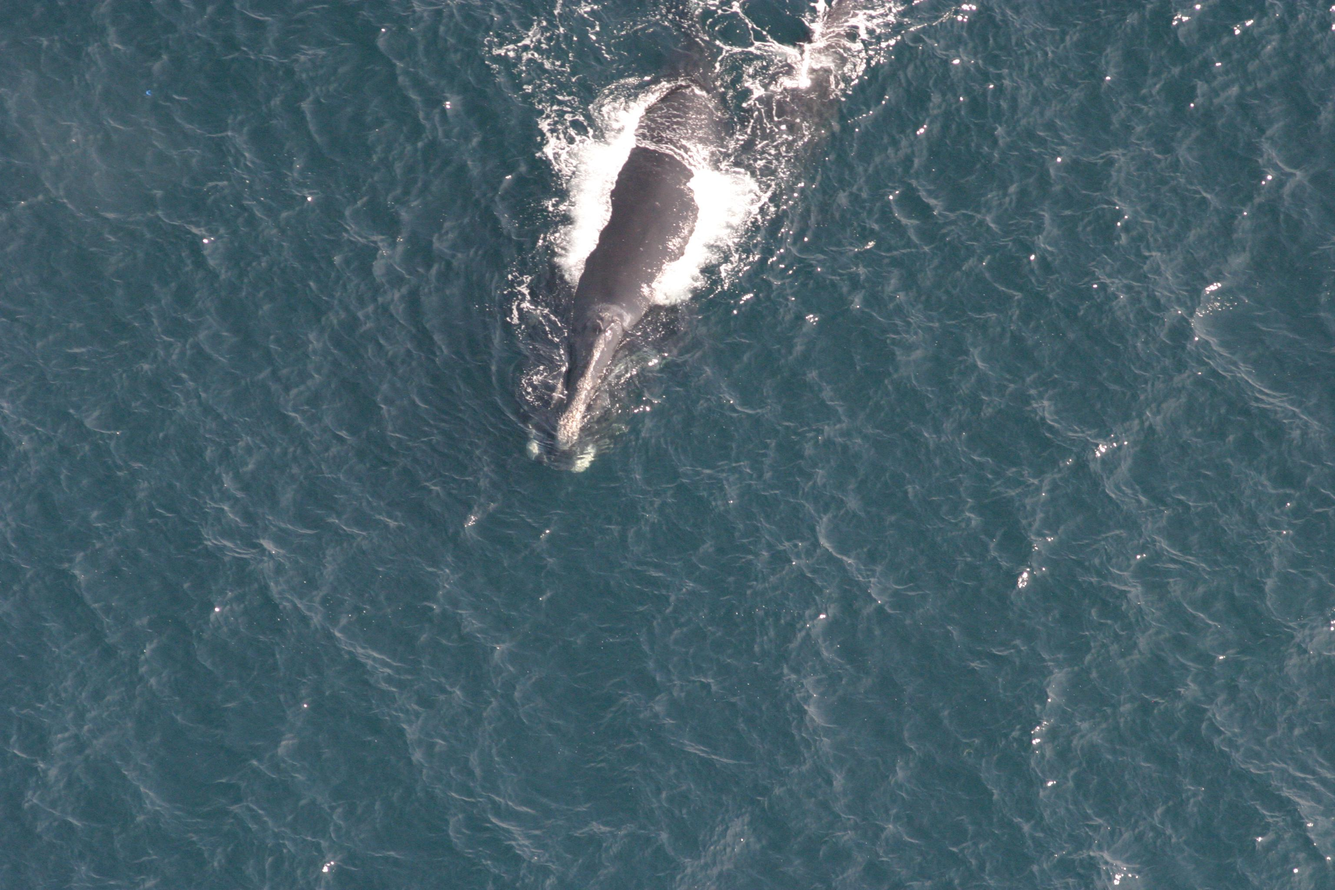whale: (508, 0, 860, 478)
